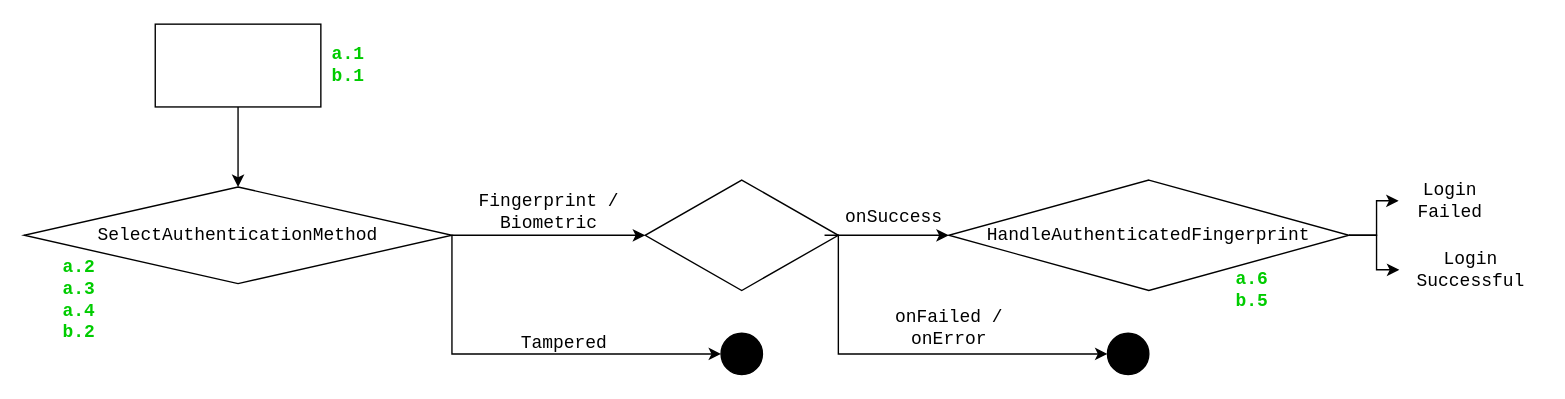
This 1565x399 diagram has some shape labels left out. The shapes that lost their labels are listed below. From the top down, each one's centre as x and y in pixels, then its label:
the point at 237,65: AuthViewModel
the point at 741,234: authenticate()
